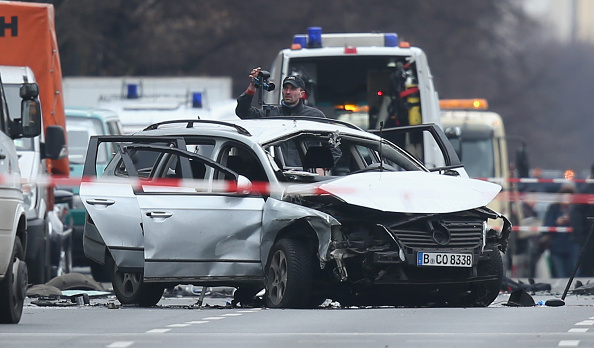em pe: (277, 69, 313, 110)
